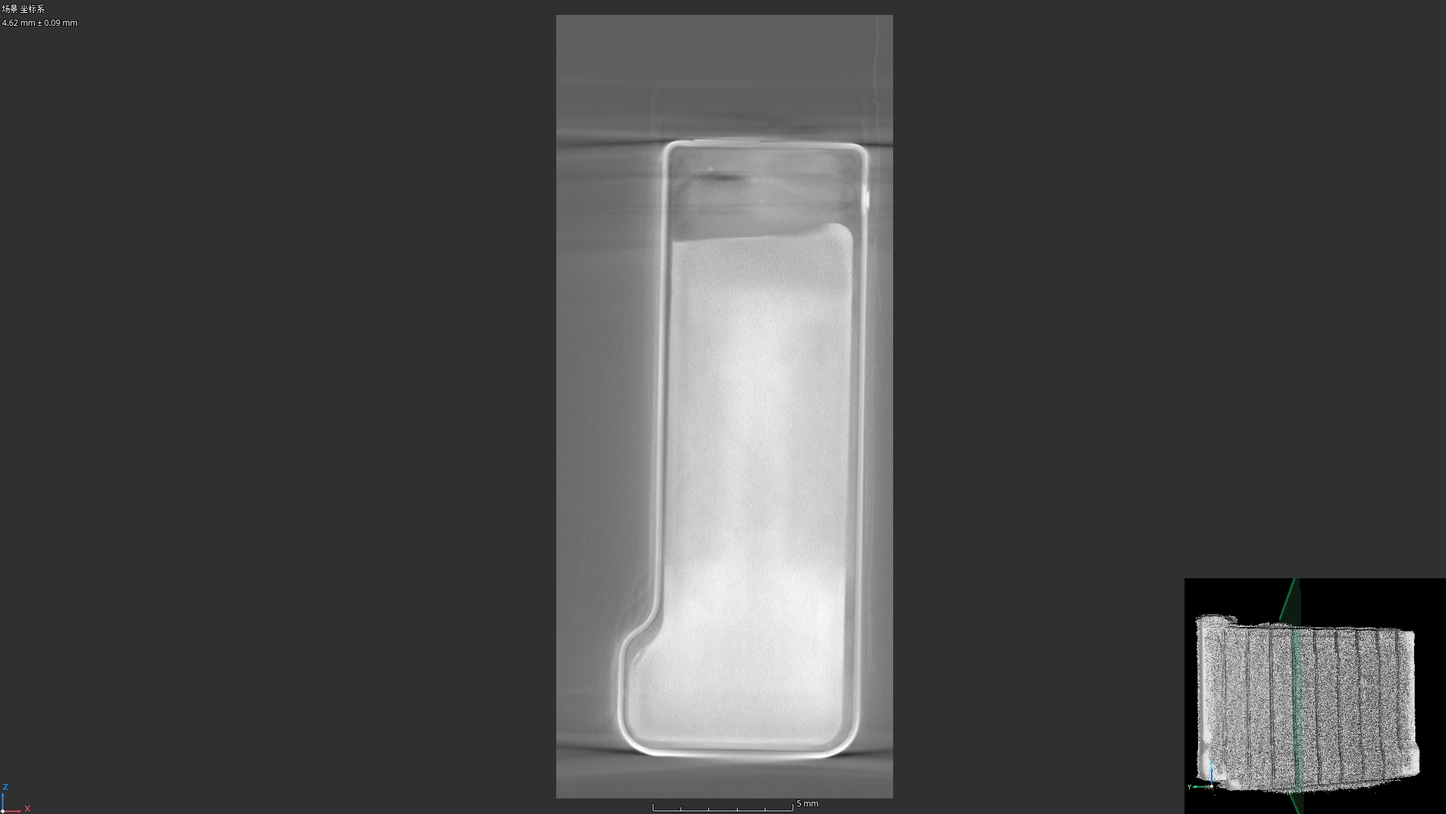damage: (631, 648, 647, 668)
light: (706, 163, 716, 173)
